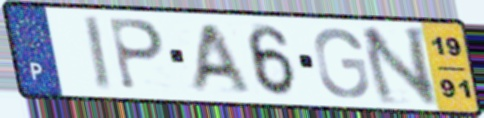6: (244, 22, 299, 99)
A: (186, 21, 253, 94)
G: (311, 26, 372, 100)
I: (79, 13, 115, 93)
N: (357, 25, 442, 108)
P: (106, 16, 167, 93)
